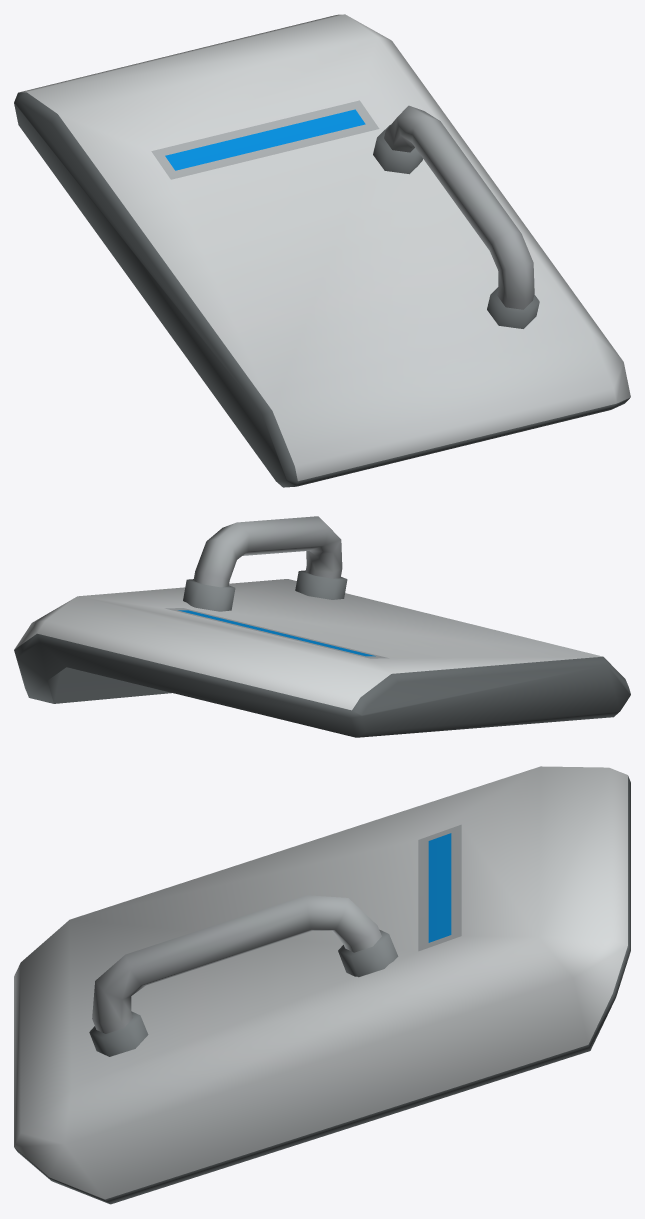
File: Crate_014_cap_002.fbx
3 renders of one model, top to bottom at view 1: azimuth 30°, elevation 25°; view 2: azimuth 150°, elevation 25°; view 3: azimuth 270°, elevation 25°, orthographic. The views are drawn at different scales.
Parts seen in each view (by area): view 1: Crate_014_cap_002; view 2: Crate_014_cap_002; view 3: Crate_014_cap_002.
Boxes of the visible parts, box(x1,y1,x2,y2) form: Crate_014_cap_002: box(14, 14, 630, 487); Crate_014_cap_002: box(14, 516, 630, 737); Crate_014_cap_002: box(14, 766, 630, 1204).
Bounding box in the file's own units: 52 × 71.2 × 33.88.
